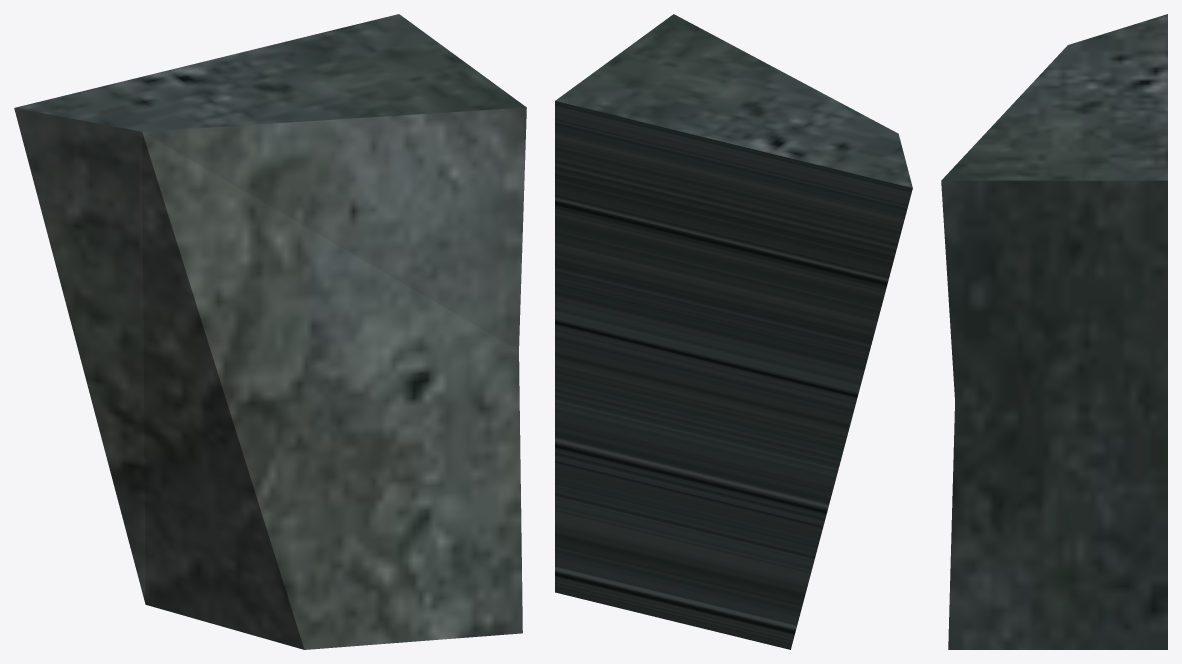
3 renders of one model, left to right at view 1: azimuth 30°, elevation 25°; view 2: azimuth 150°, elevation 25°; view 3: azimuth 270°, elevation 25°, orthographic. The views are drawn at different scales.
Parts seen in each view (by area): view 1: model_Object07; view 2: model_Object07; view 3: model_Object07.
Part boxes in pixels (left/top/right/bottom): model_Object07: left=14, top=14, right=526, bottom=649; model_Object07: left=555, top=14, right=912, bottom=649; model_Object07: left=941, top=14, right=1167, bottom=649.
Bounding box in the file's own units: 0.5007 × 0.6571 × 0.2877.
Materials: 2 (2 with a texture image).
